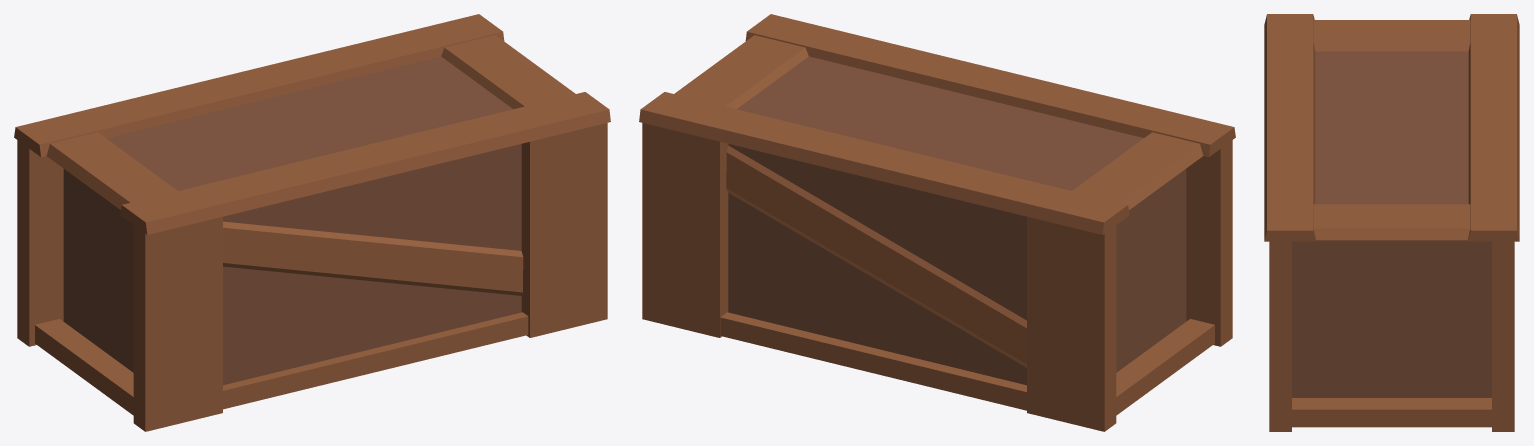
File: Caixa_2.fbx
3 views of the same model, side by side, from view 1: azimuth 30°, elevation 25°; view 2: azimuth 150°, elevation 25°; view 3: azimuth 270°, elevation 25° (orthographic). The views are drawn at different scales.
Parts seen in each view (by area): view 1: Caixa_2; view 2: Caixa_2; view 3: Caixa_2.
Part boxes in pixels (x1=…): Caixa_2: x1=14, y1=14, x2=610, y2=431; Caixa_2: x1=639, y1=14, x2=1235, y2=431; Caixa_2: x1=1264, y1=14, x2=1519, y2=431.
Size of the model in its own units: 0.9783 by 1.97 by 0.8524.
